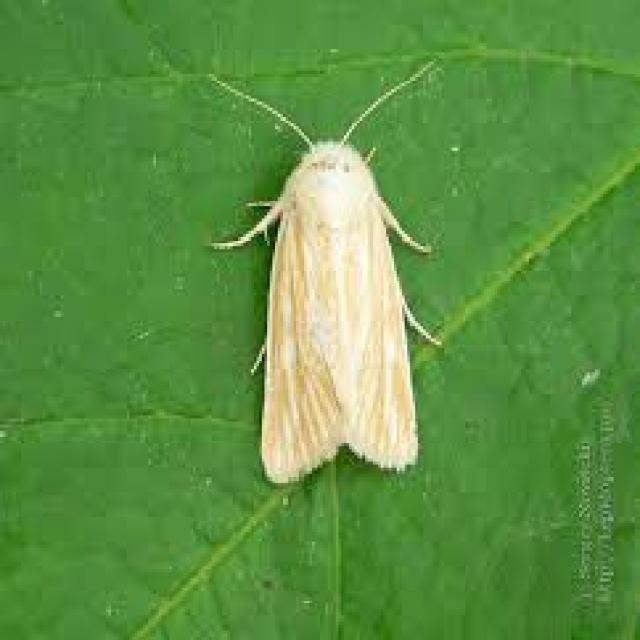yellow-stem-borer: (208, 37, 487, 486)
